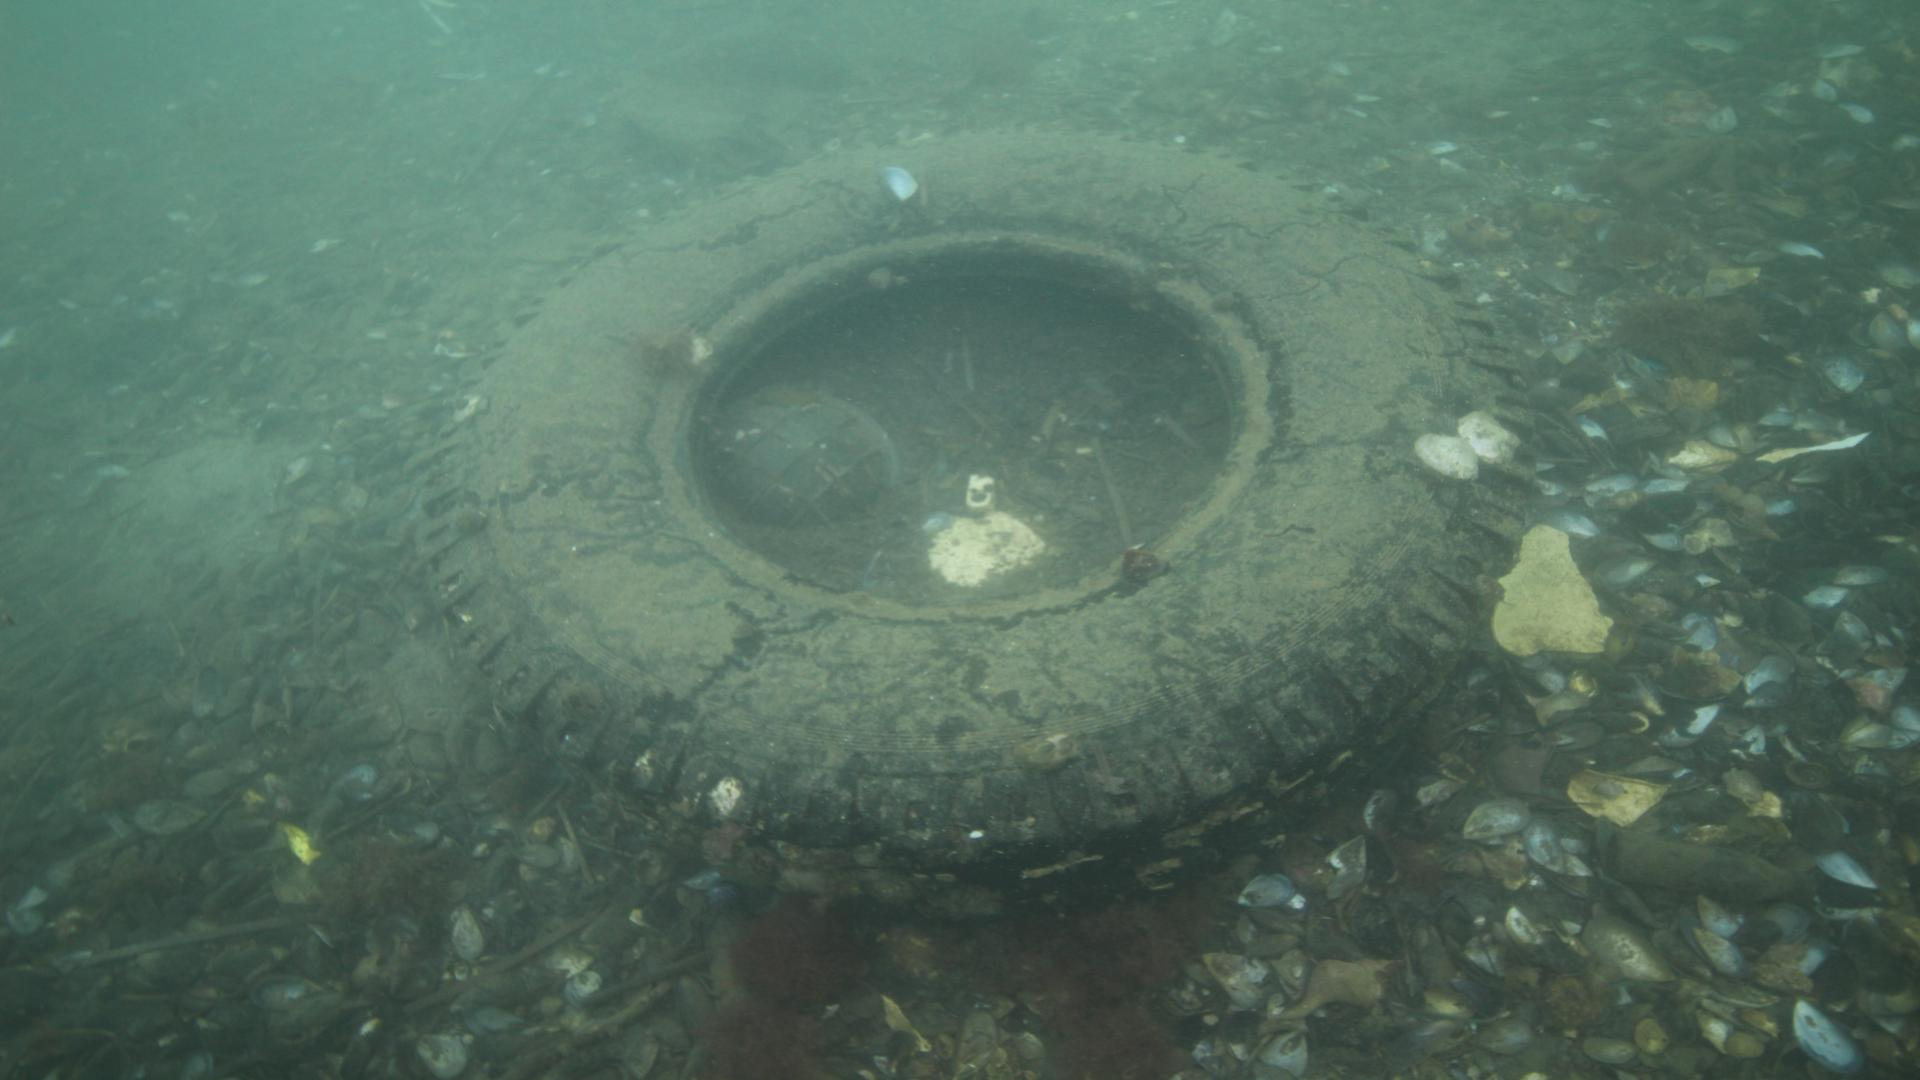tire: (407, 125, 1536, 926)
